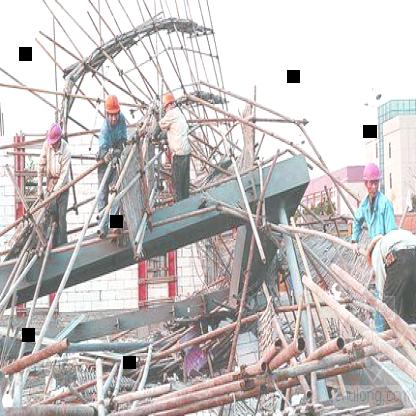helmet: (43, 119, 65, 164), (363, 158, 383, 198), (102, 94, 124, 128), (160, 91, 176, 116)
